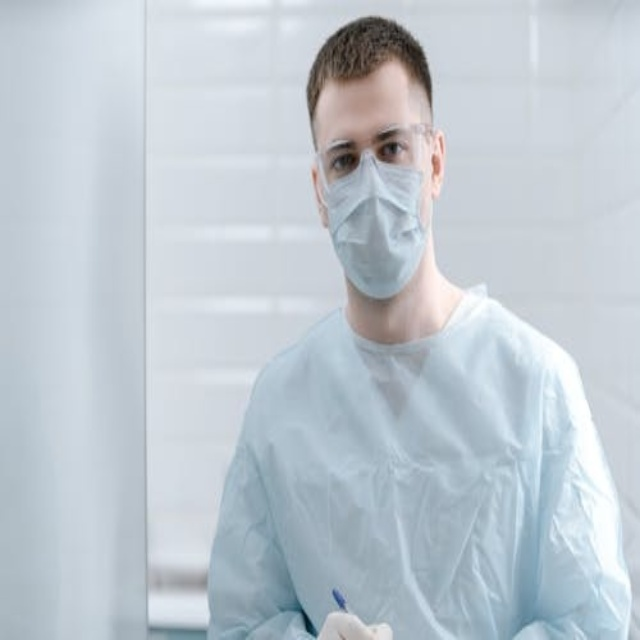Gafas: (317, 122, 435, 186)
Guantes: (316, 609, 394, 640)
Mascara: (319, 143, 431, 298)
